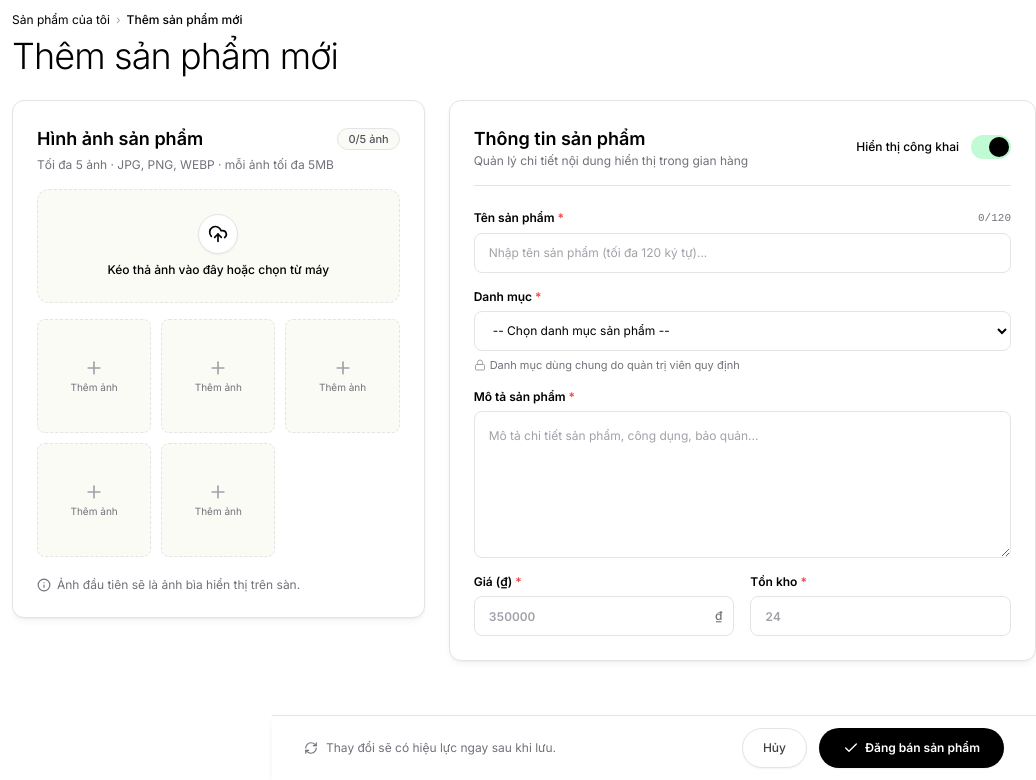
Test: ProductFormPage › displays inline validation errors when submitting an empty form
Click the button "Đăng bán sản phẩm" at coordinates (912, 748), box x1=819 y1=728 x2=1004 y2=768
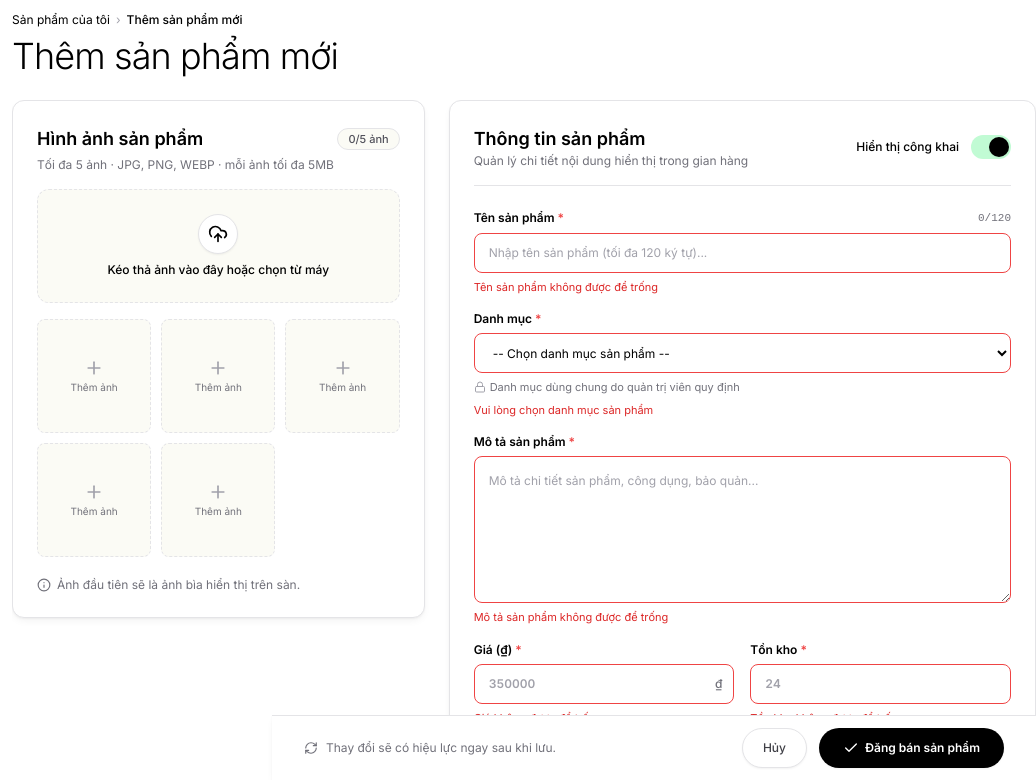
Result: the text "Tên sản phẩm không được để trống" is shown at x1=474 y1=280 x2=658 y2=294
Result: the text "Vui lòng chọn danh mục sản phẩm" is shown at x1=474 y1=402 x2=653 y2=416
Result: the text "Mô tả sản phẩm không được để trống" is shown at x1=474 y1=610 x2=668 y2=624
